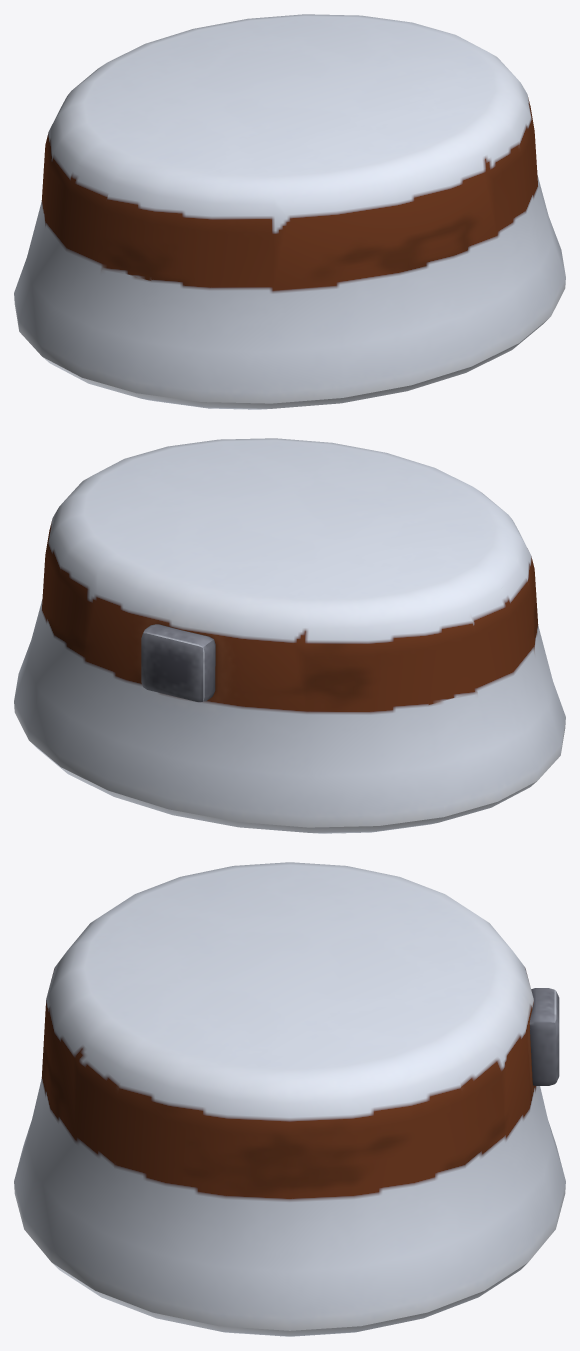
File: pelvis.glb
3 views of the same model, one above another, from view 1: azimuth 30°, elevation 25°; view 2: azimuth 150°, elevation 25°; view 3: azimuth 270°, elevation 25° (orthographic). The views are drawn at different scales.
Visible parts, largest first — view 1: pelvis; view 2: pelvis; view 3: pelvis.
Part boxes in pixels (bbox=[...]): pelvis: bbox=[14, 14, 565, 409]; pelvis: bbox=[14, 438, 565, 833]; pelvis: bbox=[14, 862, 565, 1336].
Bounding box in the file's own units: 0.3736 × 0.155 × 0.3175.
4 materials, 4 textured.
